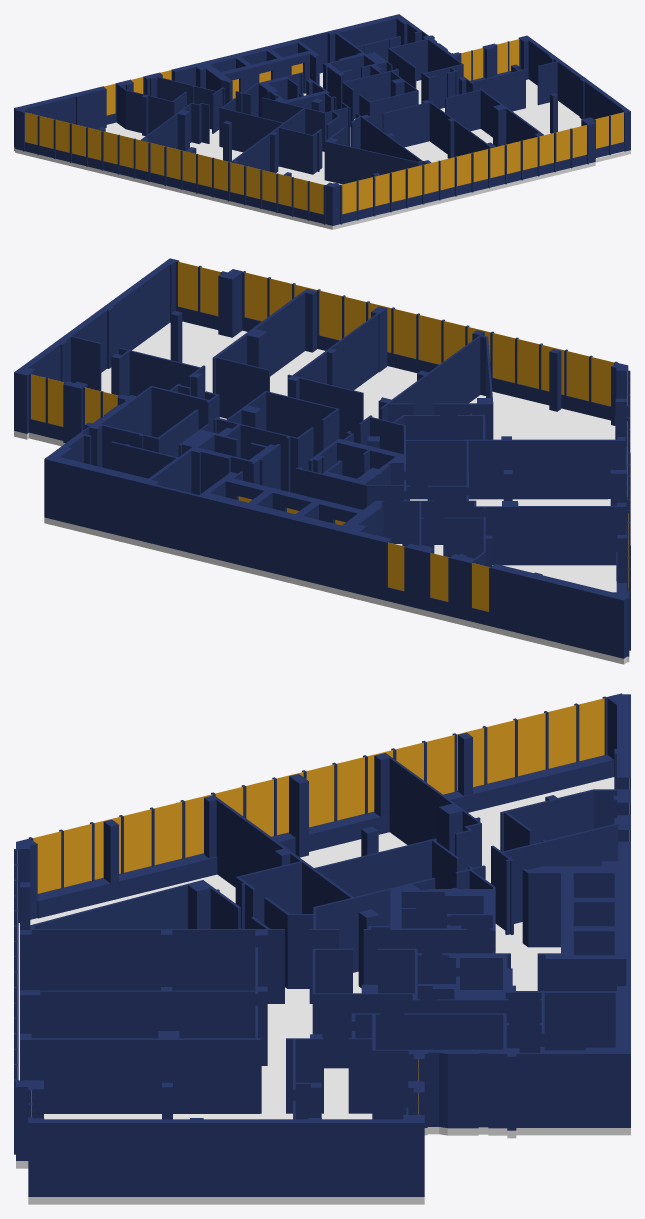
File: 1855B 4th Floor.fbx
The picture shows the model from 3 angles, top to bottom: view 1: azimuth 30°, elevation 25°; view 2: azimuth 150°, elevation 25°; view 3: azimuth 270°, elevation 25°; orthographic projection. The views are drawn at different scales.
Visible parts, largest first — view 1: Walls, Interior Member, Object_164; view 2: Walls, Interior Member, Object_164; view 3: Walls, Interior Member, Object_164.
Boxes of the visible parts, bbox=[...] form: Walls: bbox=[14, 14, 630, 225]; Interior Member: bbox=[25, 39, 623, 214]; Object_164: bbox=[14, 72, 630, 229]; Walls: bbox=[14, 258, 630, 658]; Interior Member: bbox=[31, 261, 628, 611]; Object_164: bbox=[14, 321, 629, 664]; Walls: bbox=[14, 693, 630, 1196]; Interior Member: bbox=[17, 698, 629, 1116]; Object_164: bbox=[16, 777, 630, 1204].
Size of the model in its own units: 1493 by 906 by 132.
